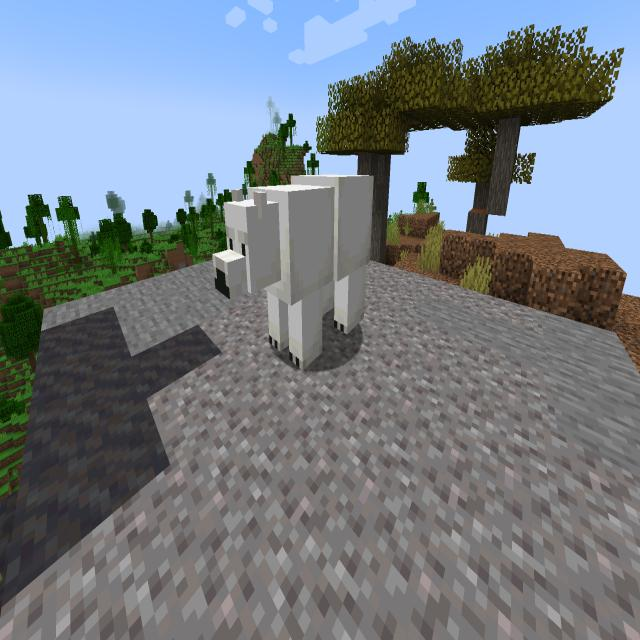Polar Bear: (205, 160, 383, 382)
